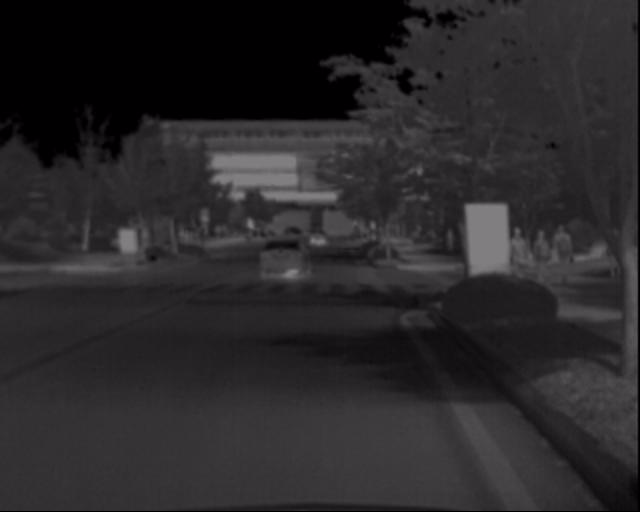person: (552, 222, 579, 287), (527, 221, 554, 286), (506, 223, 533, 286)
